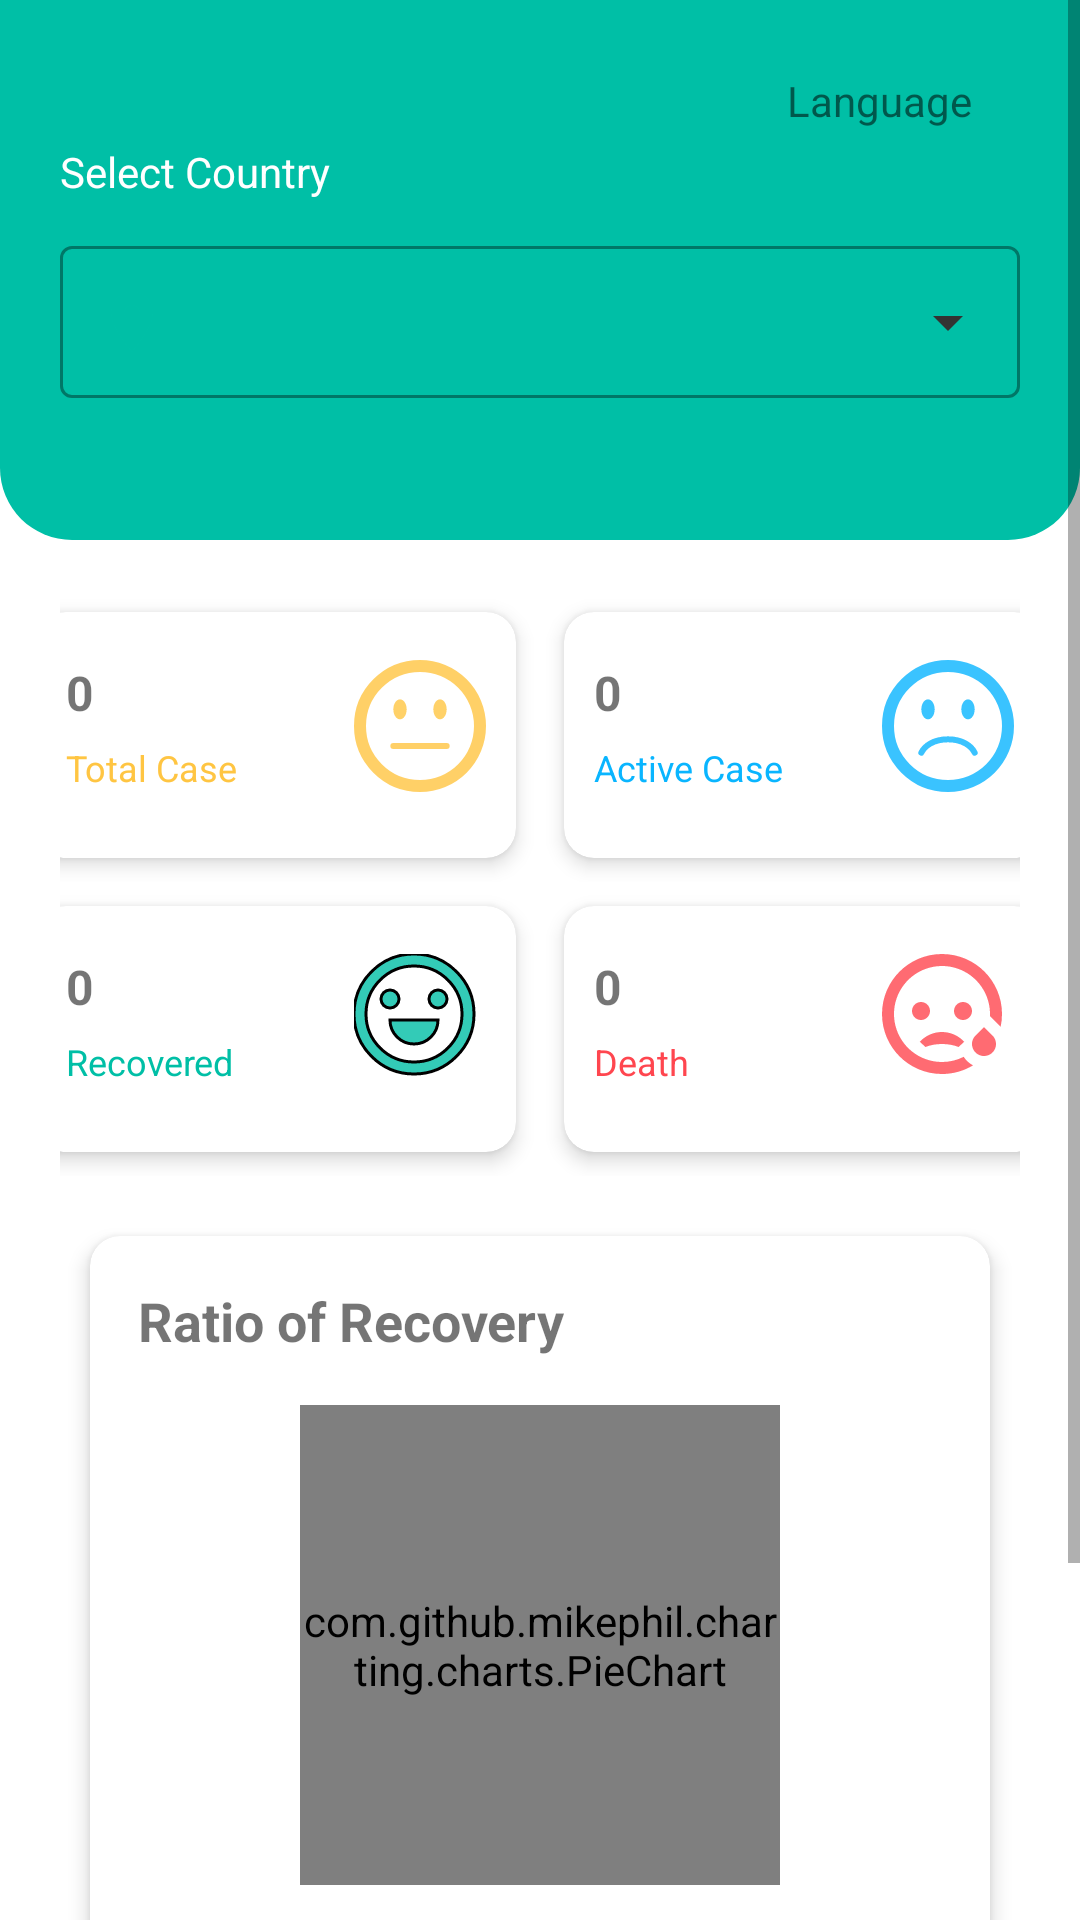

Icon bounding boxes for this 1080×1920 phone screenshot, format (x1,y1,x2,y2):
death case: (882,954,1002,1074)
recover case: (354,954,476,1076)
